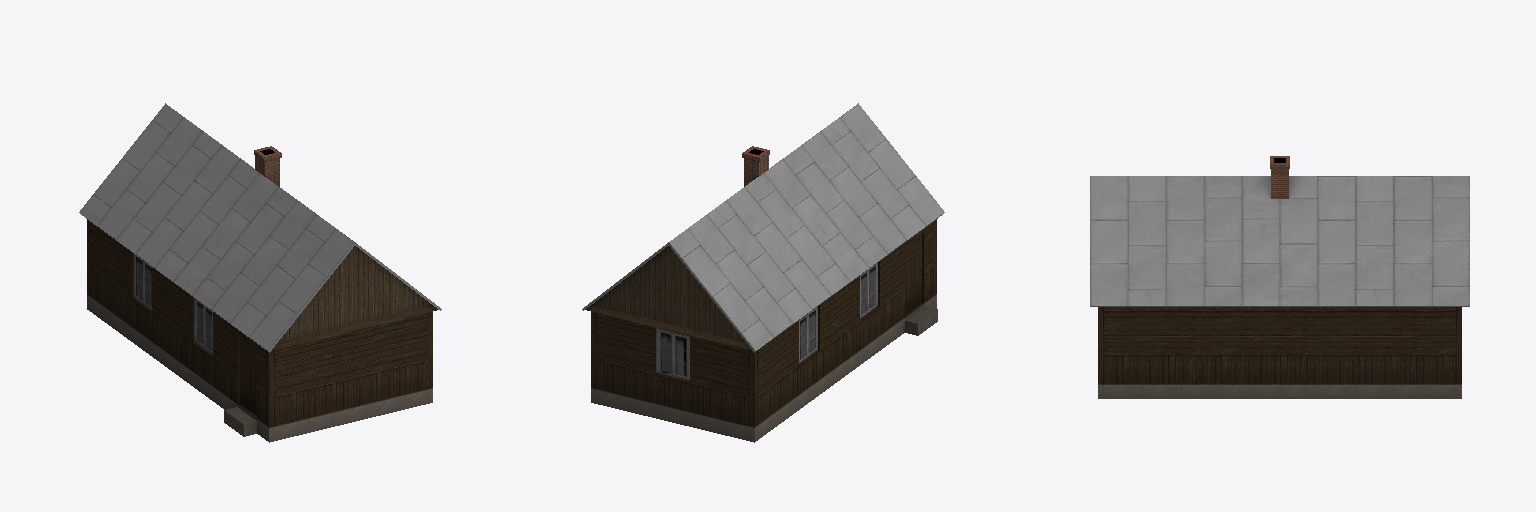
3 renders of one model, left to right at view 1: azimuth 30°, elevation 25°; view 2: azimuth 150°, elevation 25°; view 3: azimuth 270°, elevation 25°, orthographic.
Visible parts, largest first — view 1: polish_house_2; view 2: polish_house_2; view 3: polish_house_2.
Boxes of the visible parts, box(x1,y1,x2,y2) form: polish_house_2: box(79, 103, 441, 442); polish_house_2: box(582, 103, 944, 442); polish_house_2: box(1090, 156, 1469, 398).
Bounding box in the file's own units: 5.79 × 6.13 × 10.41.
Materials: 1 (1 with a texture image).